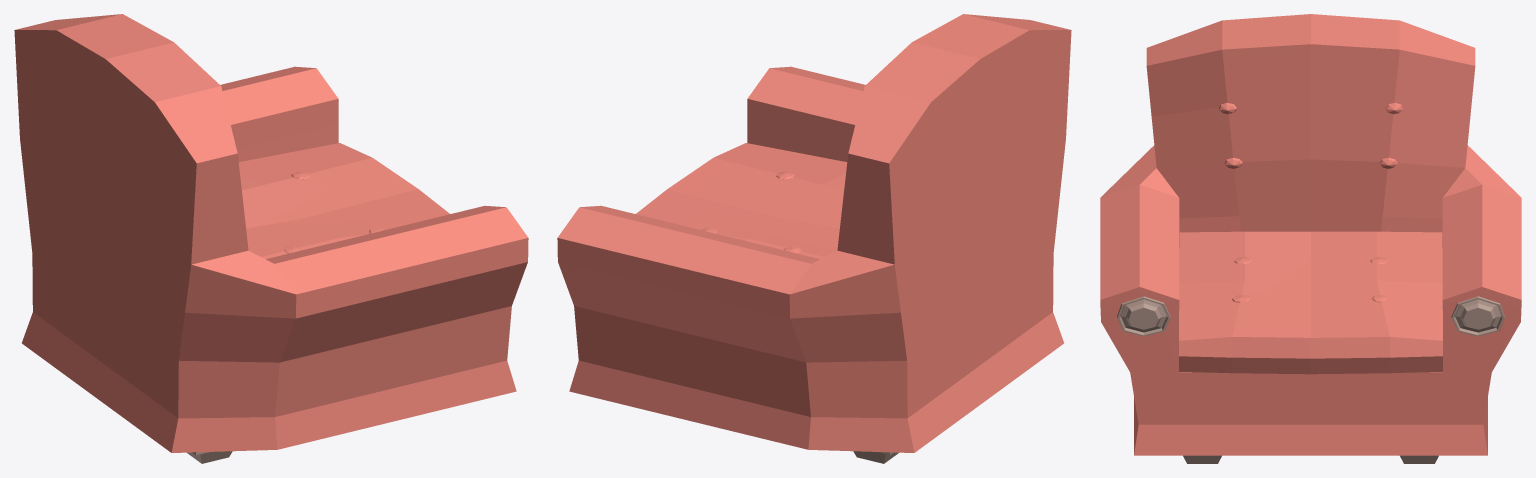
The model's file is armchair01.gltf.
3 views of the same model, side by side, from view 1: azimuth 30°, elevation 25°; view 2: azimuth 150°, elevation 25°; view 3: azimuth 270°, elevation 25° (orthographic). The views are drawn at different scales.
Parts seen in each view (by area): view 1: Armchair_01; view 2: Armchair_01; view 3: Armchair_01.
Boxes of the visible parts, x1,y1,x2,y2 form: Armchair_01: [14, 14, 528, 463]; Armchair_01: [557, 14, 1071, 463]; Armchair_01: [1100, 14, 1521, 463].
Bounding box in the file's own units: 1.21 × 1.27 × 1.49.
